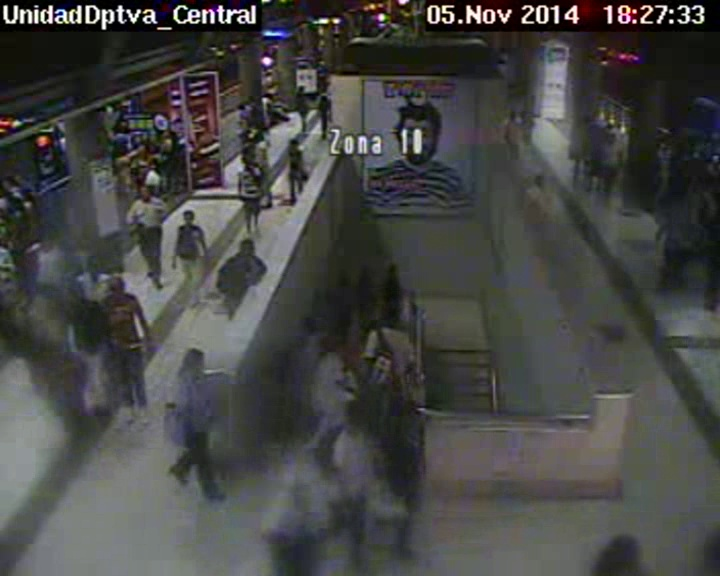person: (3, 303, 29, 332), (342, 400, 367, 426), (78, 305, 100, 330), (182, 348, 204, 371), (400, 402, 421, 421), (108, 278, 126, 298), (237, 239, 255, 258), (44, 231, 60, 250), (85, 255, 101, 273), (137, 186, 154, 202), (323, 338, 338, 354), (335, 270, 349, 287), (303, 317, 317, 333), (358, 264, 371, 280), (3, 174, 16, 190), (383, 314, 396, 329), (288, 137, 301, 152), (385, 262, 399, 275), (680, 198, 693, 212), (241, 154, 254, 167), (10, 197, 23, 210), (534, 173, 545, 188), (184, 210, 195, 224), (115, 144, 127, 156), (606, 132, 616, 145), (16, 191, 27, 202), (148, 157, 159, 167), (663, 134, 673, 145), (509, 109, 518, 121), (164, 131, 174, 141), (255, 133, 264, 144), (318, 87, 329, 95), (237, 120, 247, 128), (131, 146, 139, 155), (579, 117, 586, 127), (299, 86, 306, 95), (596, 115, 603, 124), (238, 102, 245, 109), (143, 140, 150, 147), (247, 96, 254, 103), (266, 93, 273, 99), (319, 59, 326, 65)
